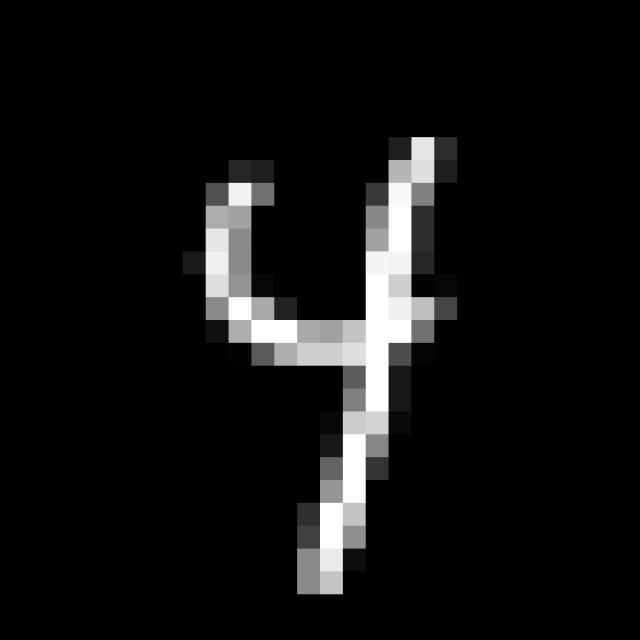four -4-: (171, 117, 480, 616)
